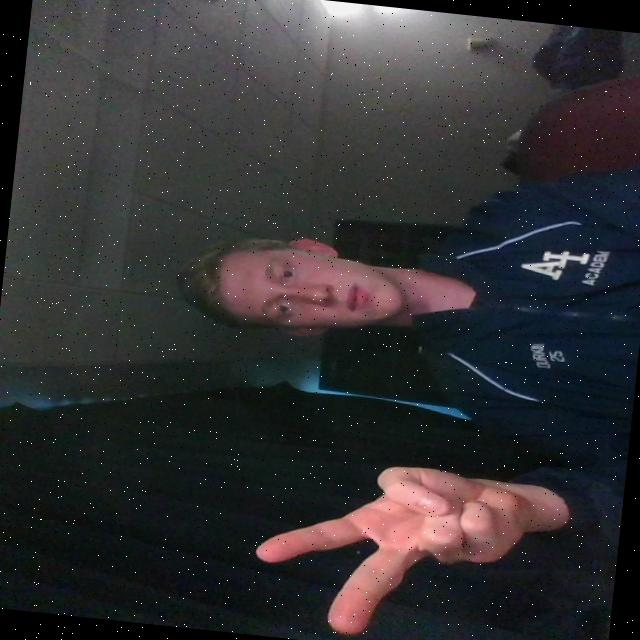scissors: (240, 443, 558, 640)
